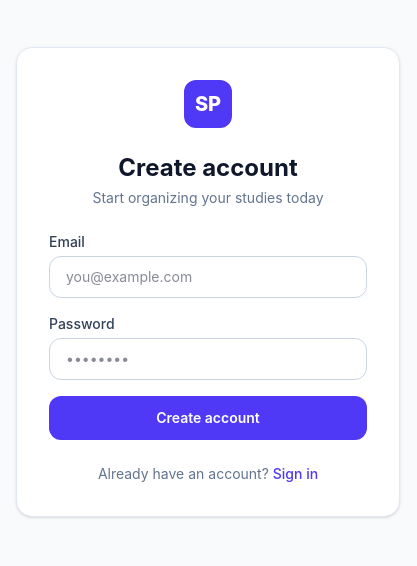
Test: CreateAccountPage › shows an error when password is too short
In the field labelled "Email": {"x": 208, "y": 277} [49,256,367,298], type "a@b.com"
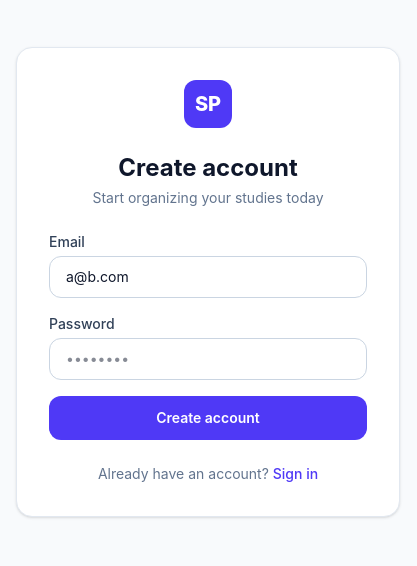
In the password field labelled "Password": {"x": 208, "y": 359} [49,338,367,380], type "123"
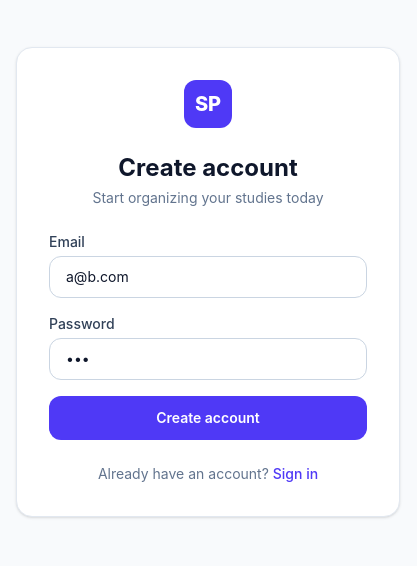
Click the button "Create account": {"x": 208, "y": 418} [49,396,367,440]
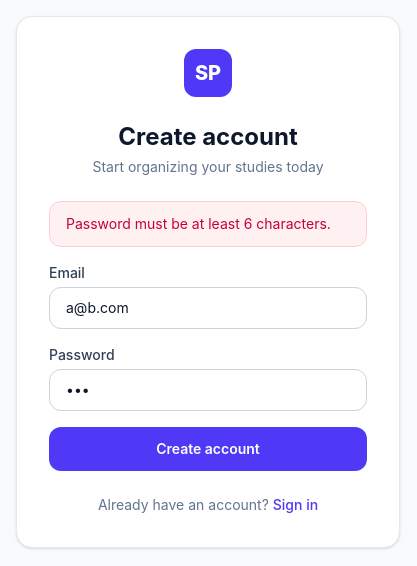
expect the message reads "Password must be at least 6 characters.": met, box [66,215,331,232]
